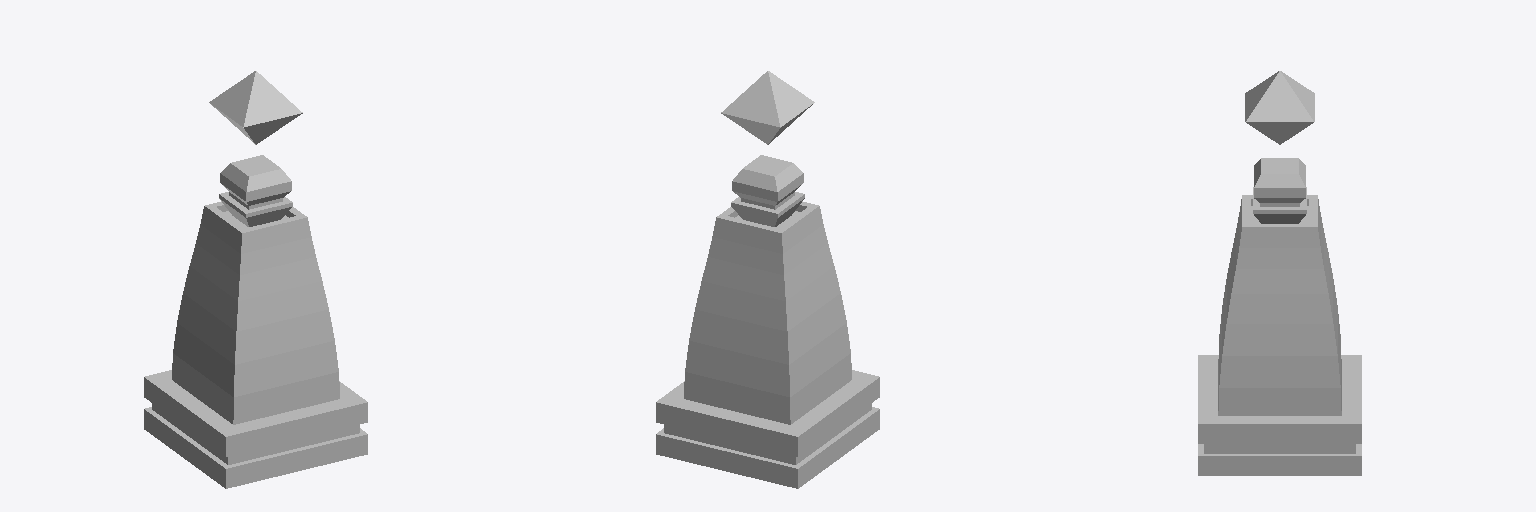
The model's file is Obelisk.obj.
3 renders of one model, left to right at view 1: azimuth 30°, elevation 25°; view 2: azimuth 150°, elevation 25°; view 3: azimuth 270°, elevation 25°, orthographic.
Parts seen in each view (by area): view 1: Cube; view 2: Cube; view 3: Cube.
Boxes of the visible parts, box(x1,y1,x2,y2) form: Cube: box(144, 71, 367, 488); Cube: box(656, 71, 879, 488); Cube: box(1198, 71, 1361, 475).
Bounding box in the file's own units: 1.28 × 3.2 × 1.28.